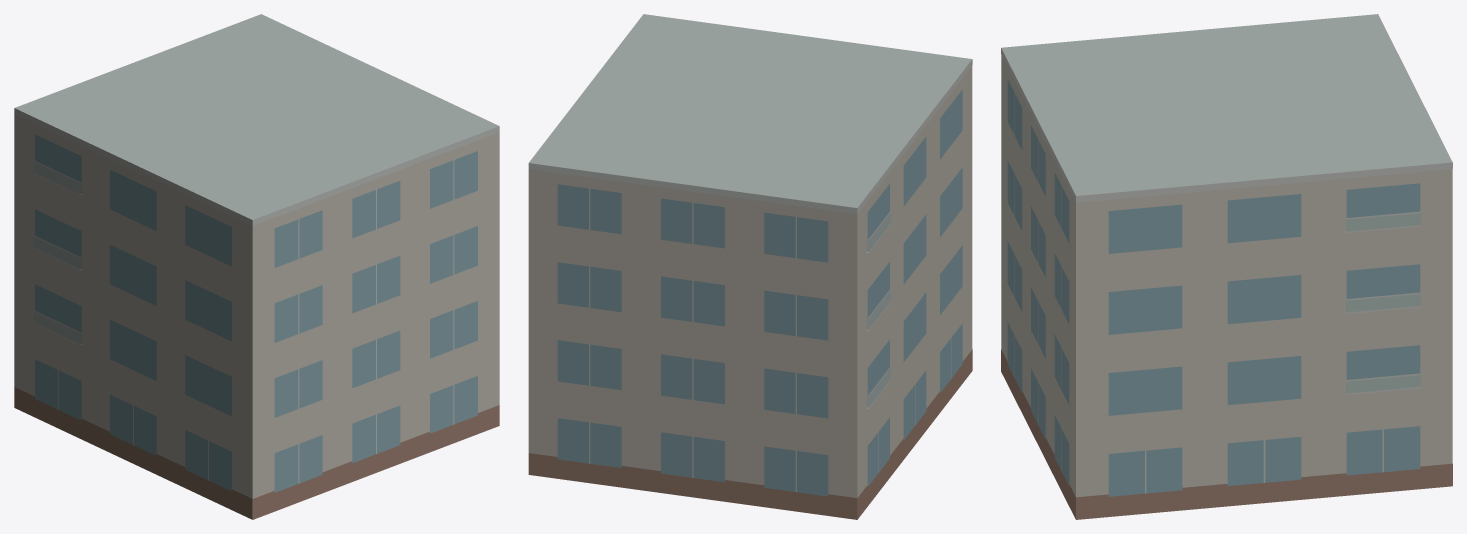
Rendered from survey-upis-32704992.glb.
The picture shows the model from 3 angles, left to right: view 1: azimuth 30°, elevation 25°; view 2: azimuth 150°, elevation 25°; view 3: azimuth 270°, elevation 25°; orthographic projection. The views are drawn at different scales.
Parts seen in each view (by area): view 1: survey-upis-32704992.tmp; view 2: survey-upis-32704992.tmp; view 3: survey-upis-32704992.tmp.
Part boxes in pixels (x1,y1,x2,y2): survey-upis-32704992.tmp: [14, 14, 499, 519]; survey-upis-32704992.tmp: [528, 14, 972, 519]; survey-upis-32704992.tmp: [1001, 14, 1452, 519].
Size of the model in its own units: 14.72 by 12.2 by 15.43.
